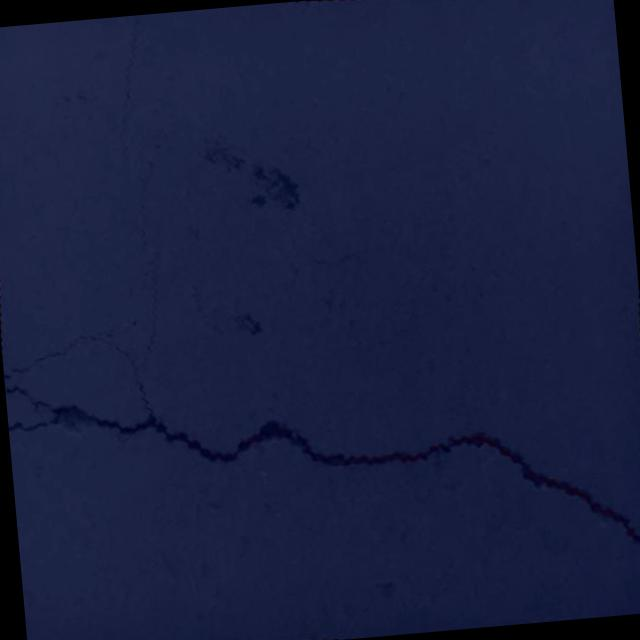crack: (0, 172, 640, 598), (108, 14, 154, 162), (544, 538, 585, 608), (133, 160, 160, 250)
